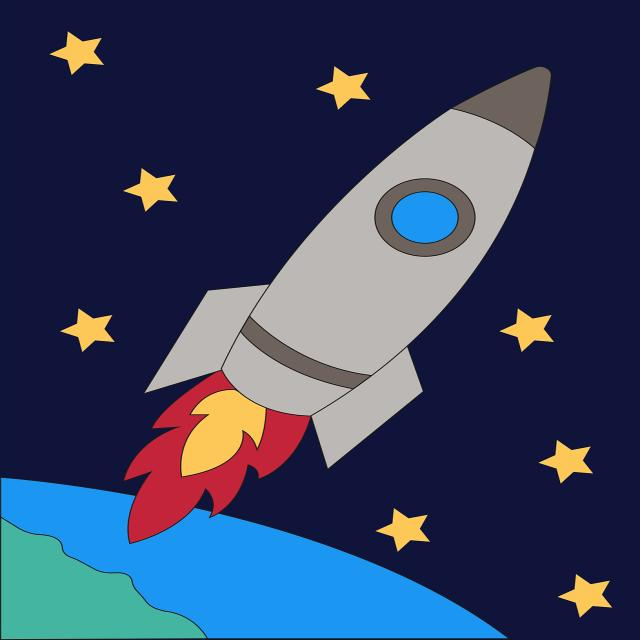medium_debris: (125, 374, 310, 542)
rocket: (132, 49, 568, 481)
